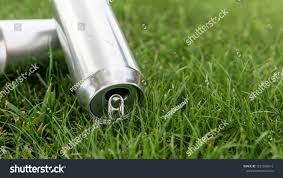can: (48, 1, 148, 124)
